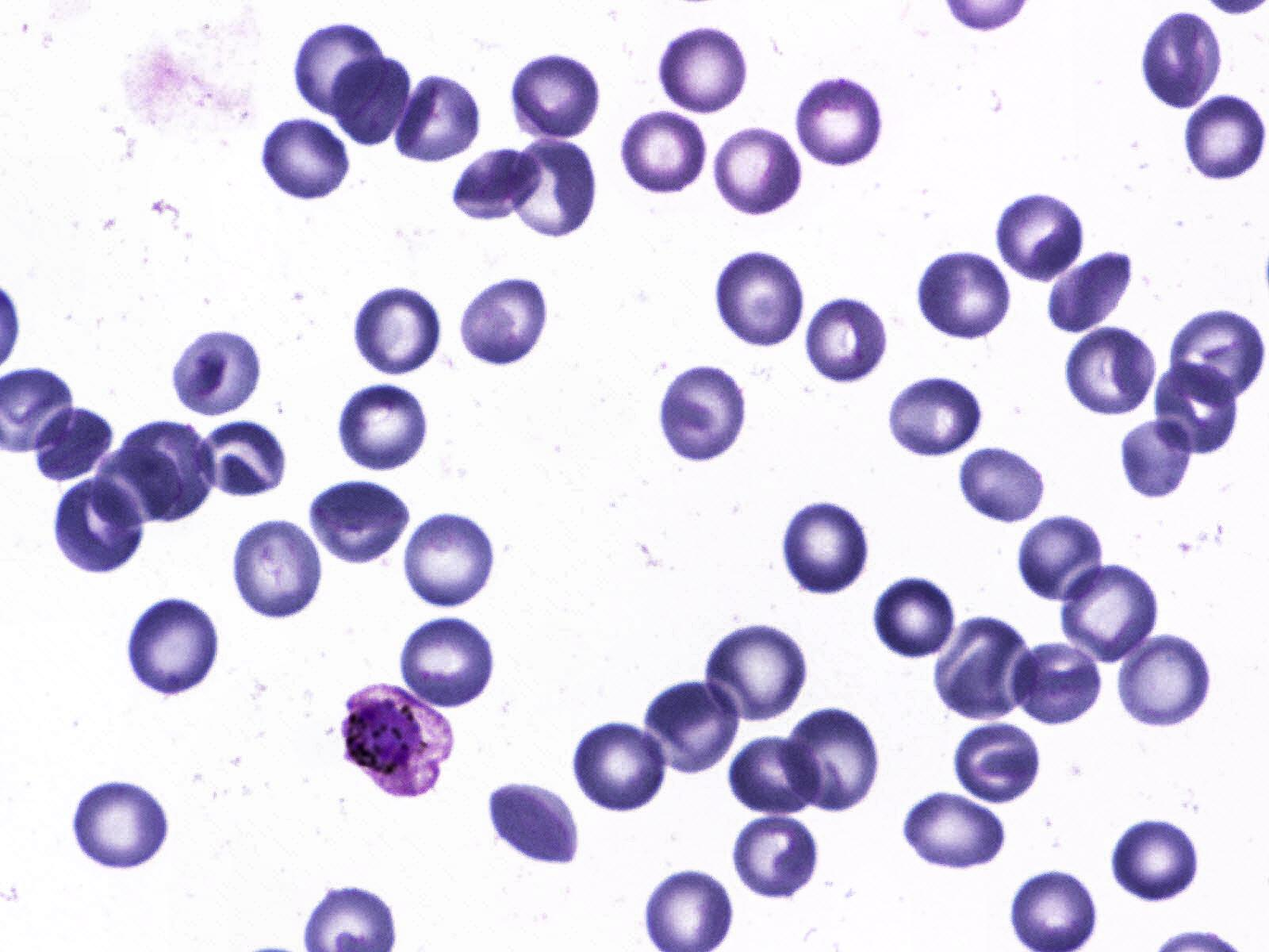Infected: (340, 682, 457, 799)
Uninfected: (935, 611, 1039, 725), (1057, 562, 1161, 670), (230, 514, 331, 620), (119, 416, 217, 525), (705, 622, 809, 724), (128, 591, 224, 699), (782, 706, 879, 812), (67, 775, 175, 870), (1114, 629, 1213, 730), (306, 476, 414, 568), (639, 679, 741, 776), (403, 506, 496, 612), (1168, 306, 1268, 403), (335, 375, 434, 472), (503, 140, 595, 244), (913, 245, 1012, 341), (397, 613, 496, 709), (658, 364, 753, 464), (455, 274, 554, 368), (657, 20, 752, 117), (899, 789, 1008, 873), (1061, 324, 1156, 420), (886, 371, 986, 462), (711, 124, 806, 219), (388, 70, 482, 166), (780, 499, 872, 597), (52, 476, 144, 574), (1140, 6, 1224, 113), (169, 325, 263, 419), (1006, 637, 1102, 729), (573, 722, 666, 816), (951, 717, 1049, 806), (997, 191, 1087, 287), (257, 113, 354, 202), (294, 24, 386, 117), (511, 52, 606, 142), (715, 251, 804, 347), (1019, 511, 1108, 606), (347, 285, 442, 374), (1110, 818, 1202, 908), (799, 77, 888, 169), (1049, 246, 1136, 338), (1155, 363, 1239, 457), (618, 111, 708, 197), (487, 782, 579, 866), (86, 448, 182, 528), (330, 56, 412, 148), (1183, 91, 1264, 184), (728, 735, 823, 814), (730, 812, 819, 896), (872, 576, 959, 661), (196, 420, 286, 501), (960, 446, 1052, 524), (806, 297, 887, 385), (452, 148, 543, 222), (1118, 416, 1198, 498), (33, 405, 113, 484)
